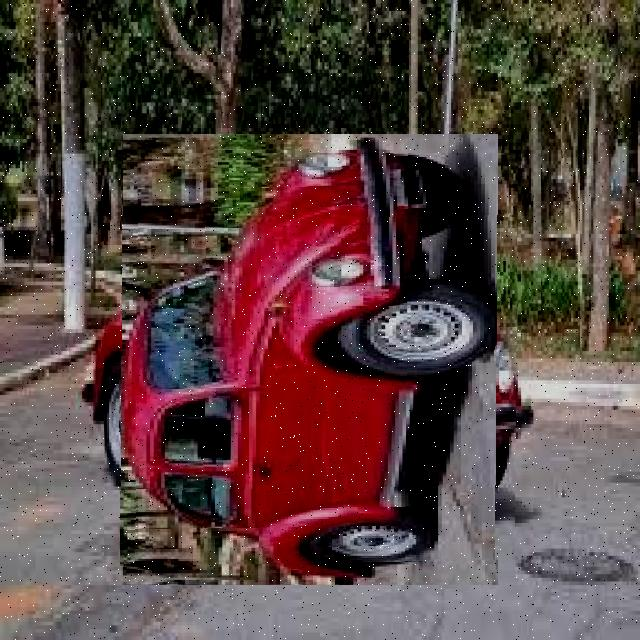car: (105, 154, 519, 567)
